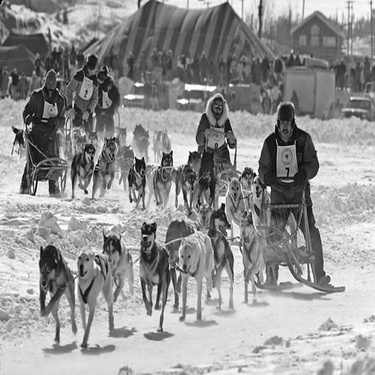car: (338, 89, 372, 128), (168, 84, 210, 113), (119, 75, 149, 108)
dog: (124, 218, 170, 335), (31, 236, 78, 350), (68, 250, 122, 348), (172, 229, 216, 329), (160, 210, 200, 312), (93, 224, 136, 306), (206, 201, 236, 315), (238, 207, 268, 311), (90, 133, 120, 202), (122, 154, 147, 215), (68, 142, 95, 196), (194, 144, 218, 198), (153, 145, 174, 204), (249, 171, 272, 223), (224, 175, 246, 229), (113, 140, 132, 197), (190, 199, 215, 238), (235, 162, 253, 215), (192, 194, 213, 231), (231, 159, 254, 192), (132, 129, 151, 165), (9, 121, 28, 156), (151, 127, 172, 156), (181, 144, 203, 168), (109, 132, 131, 154), (110, 118, 129, 143), (70, 125, 81, 152), (86, 127, 99, 148), (76, 133, 86, 154), (130, 119, 144, 134)
